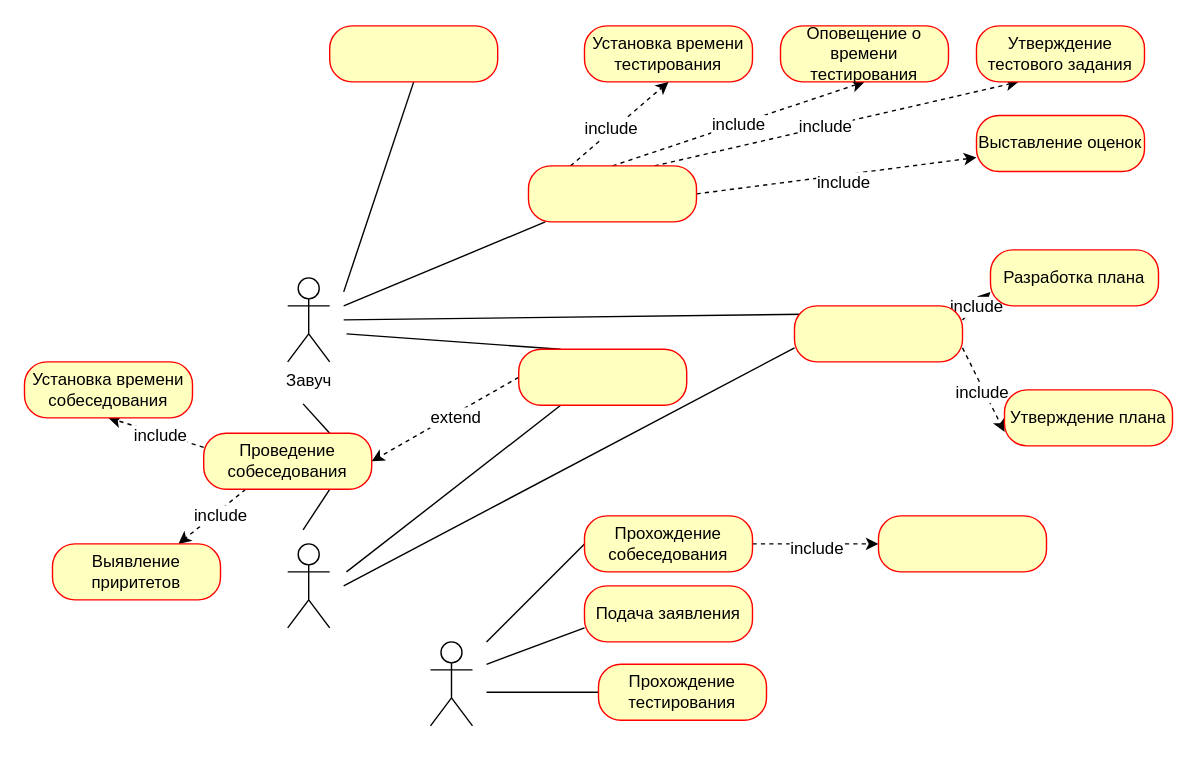
Image size: 1197x780. Some labels were removed from this diagram. The shapes that lost their labels are listed below. From the top down, each one's box as (x1, y1, x2, y2) in pixels, then its label:
(328, 24, 498, 82): Принятие заявления
(527, 164, 696, 222): Проведение тестирования
(793, 304, 962, 362): Создание плана
(517, 348, 687, 405): Отсев претендентов
(877, 514, 1046, 572): Выбор приритетов
(286, 542, 330, 628): Директор
(429, 640, 472, 726): Ученик
